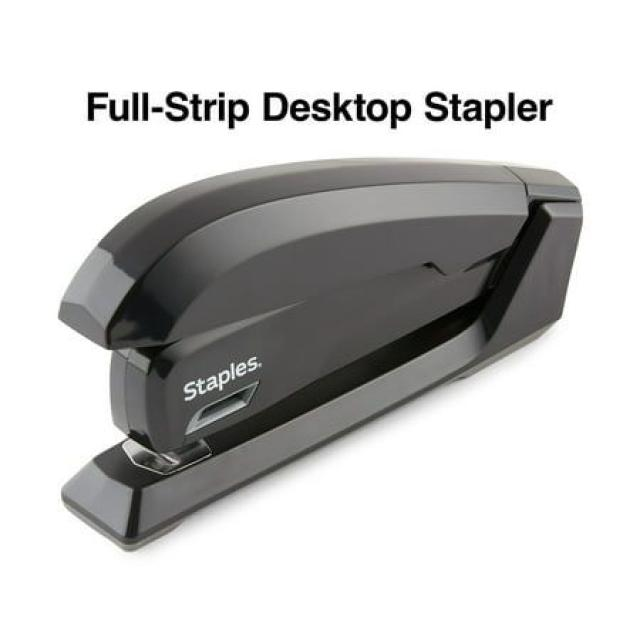Stapler: (37, 157, 633, 557)
